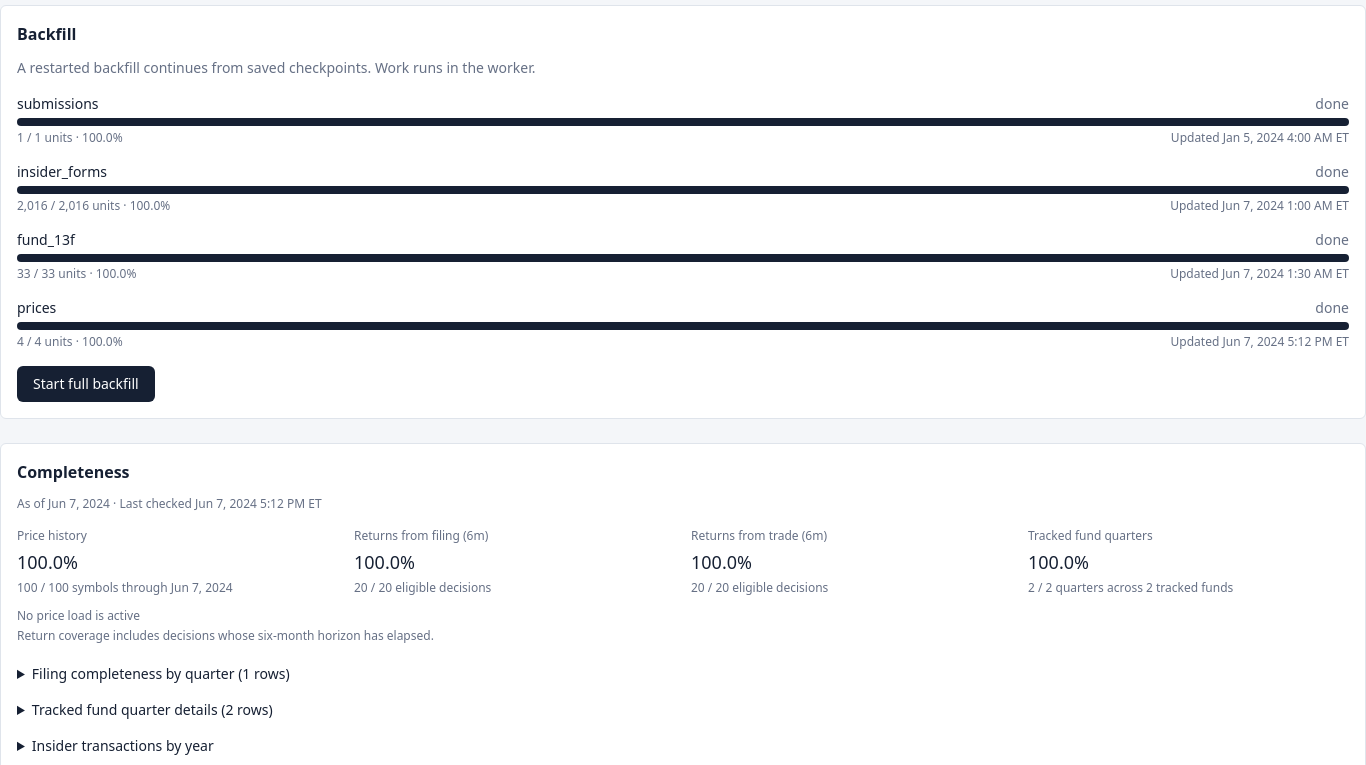
Test: start backfill requires confirmation and cancel queues nothing
The image size is (1366, 765).
(page scrolled)
Click the button "Start full backfill" at (86, 384), box [17,366,155,402]
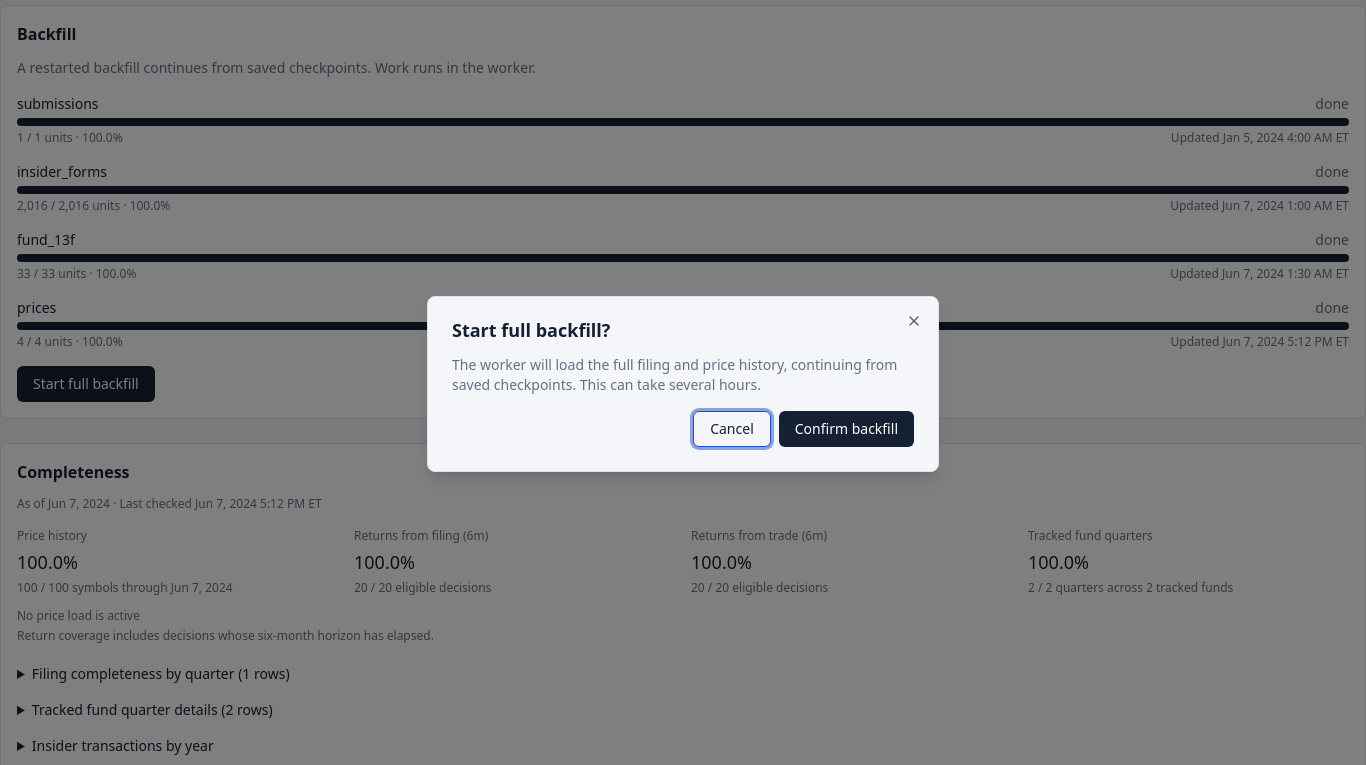
Click the button "Cancel" at (732, 429), box [693,411,771,447]
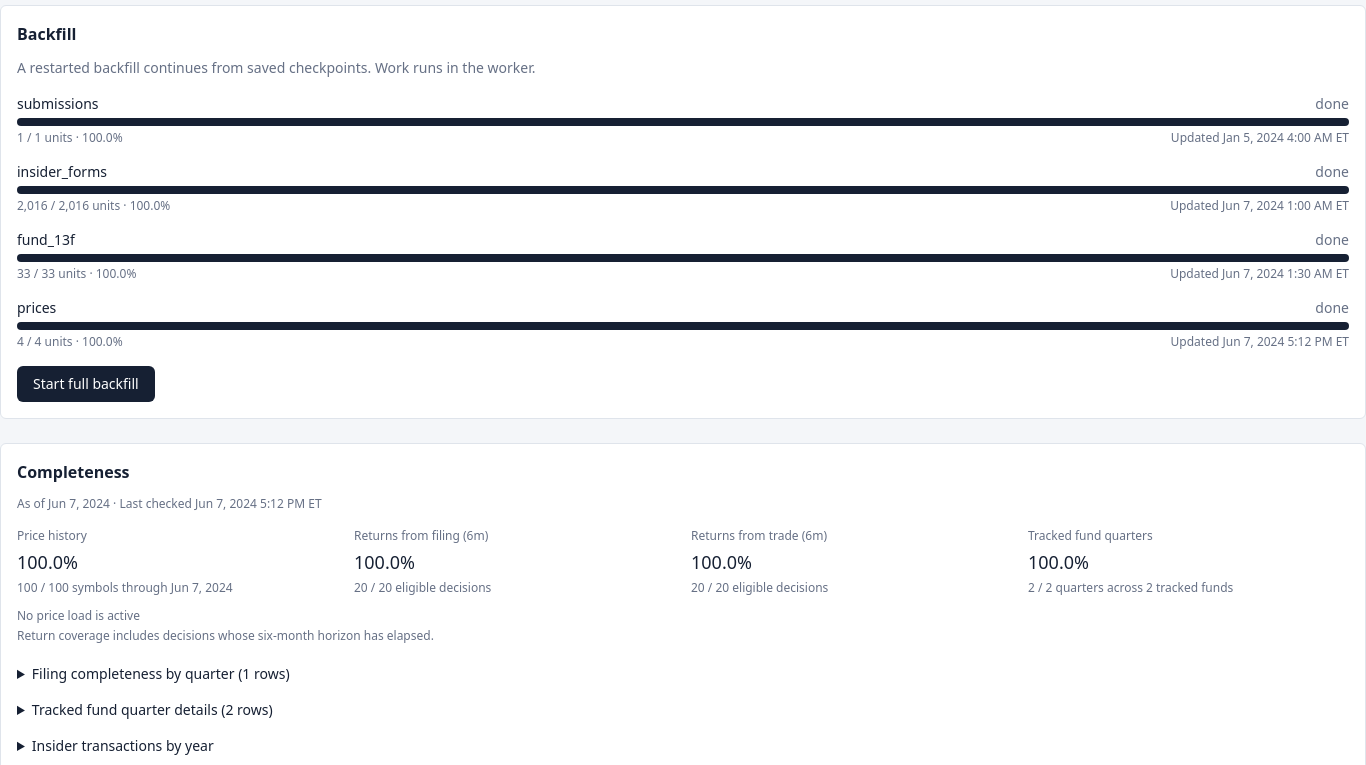
expect the dialog is gone: met
Click the button "Start full backfill" at (86, 384), box [17,366,155,402]
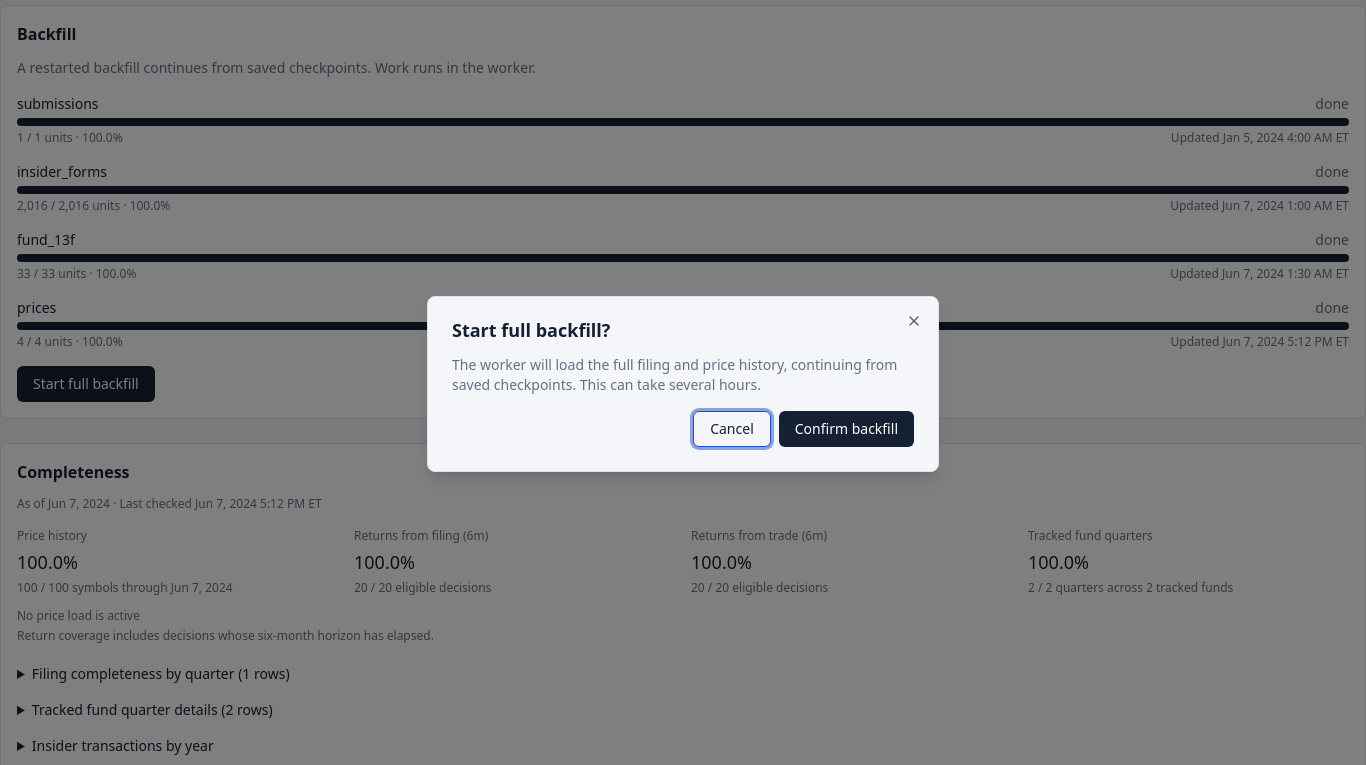
Click the button "Confirm backfill" at (846, 429), box [779,411,914,447]
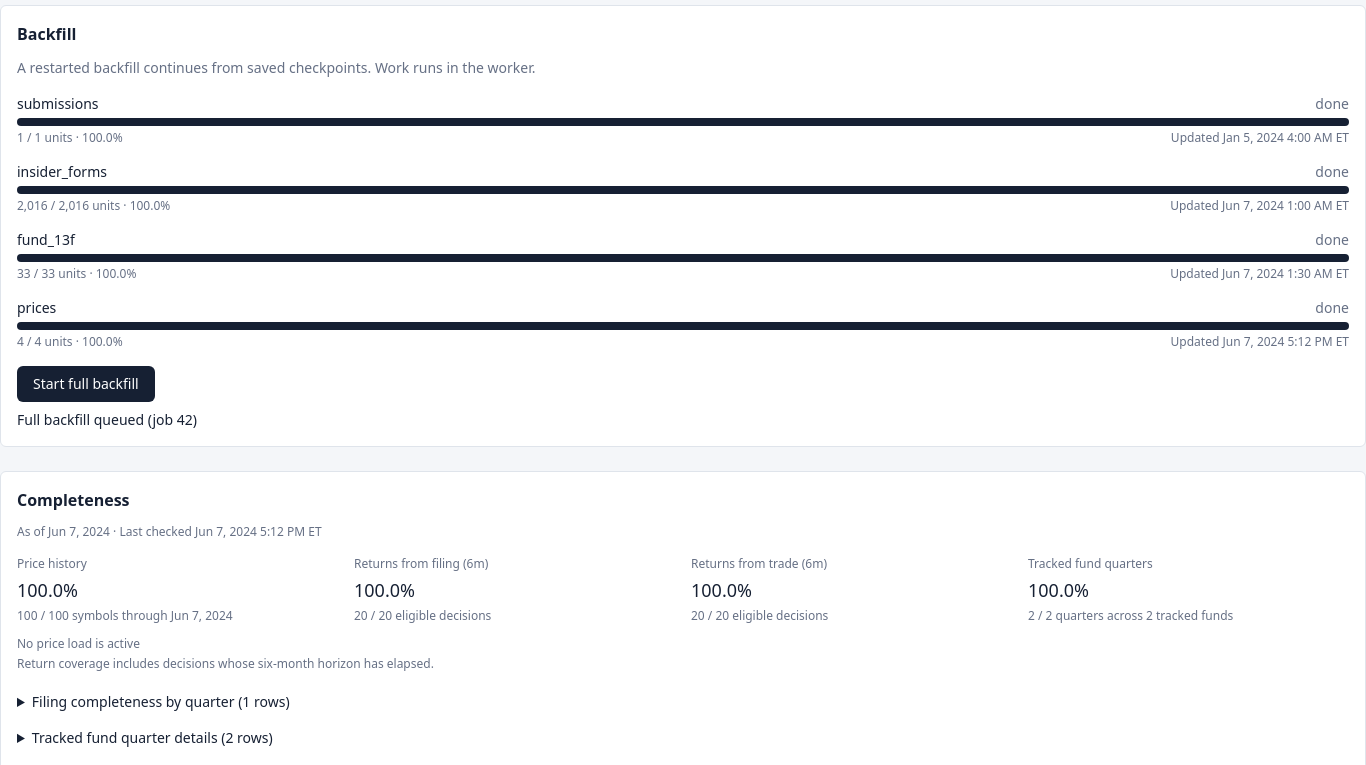
expect the text "Full backfill queued (job 42)" is shown: met, box [17,410,197,429]
